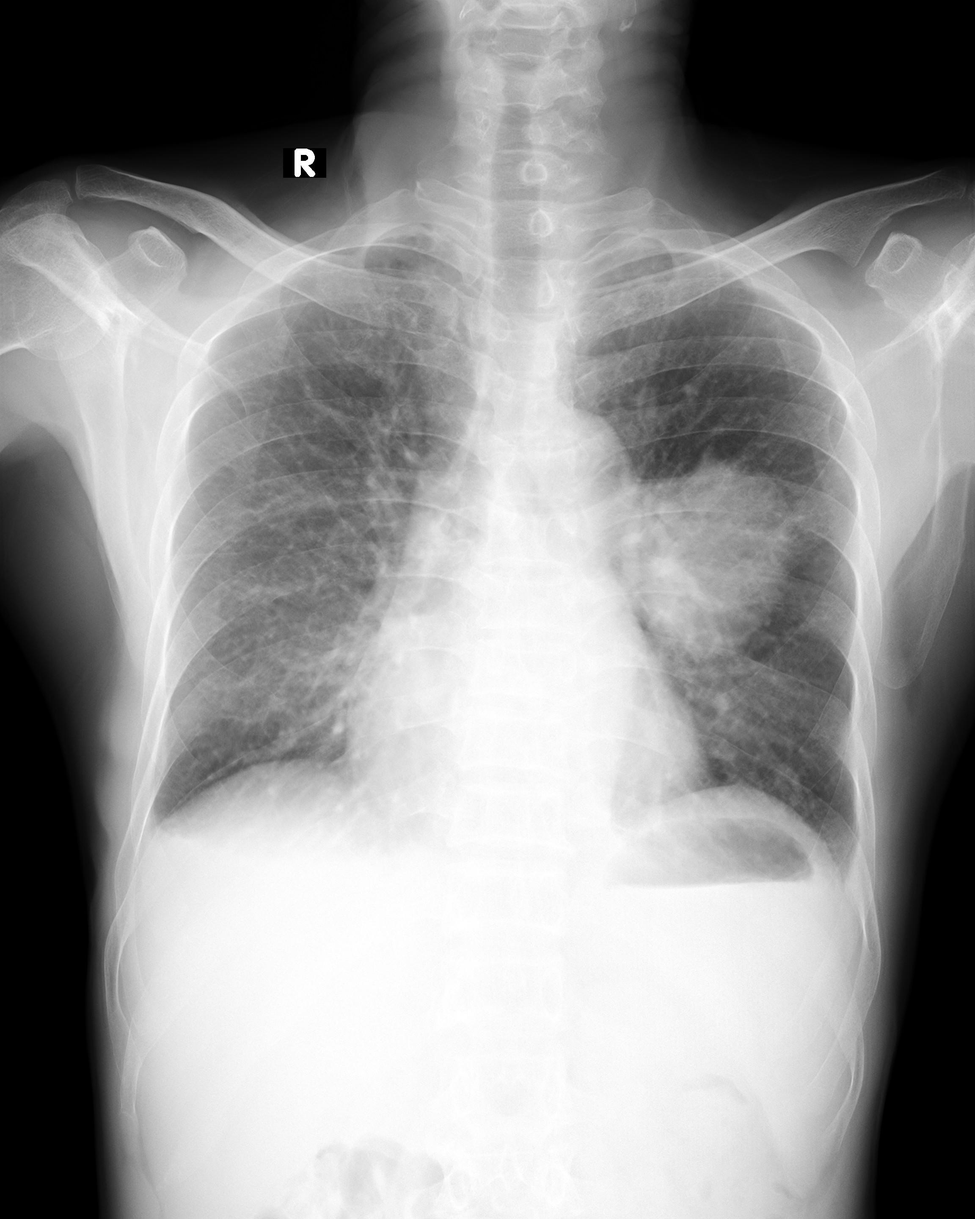Pleural thickening: (144, 793, 234, 842), (369, 223, 456, 244)
